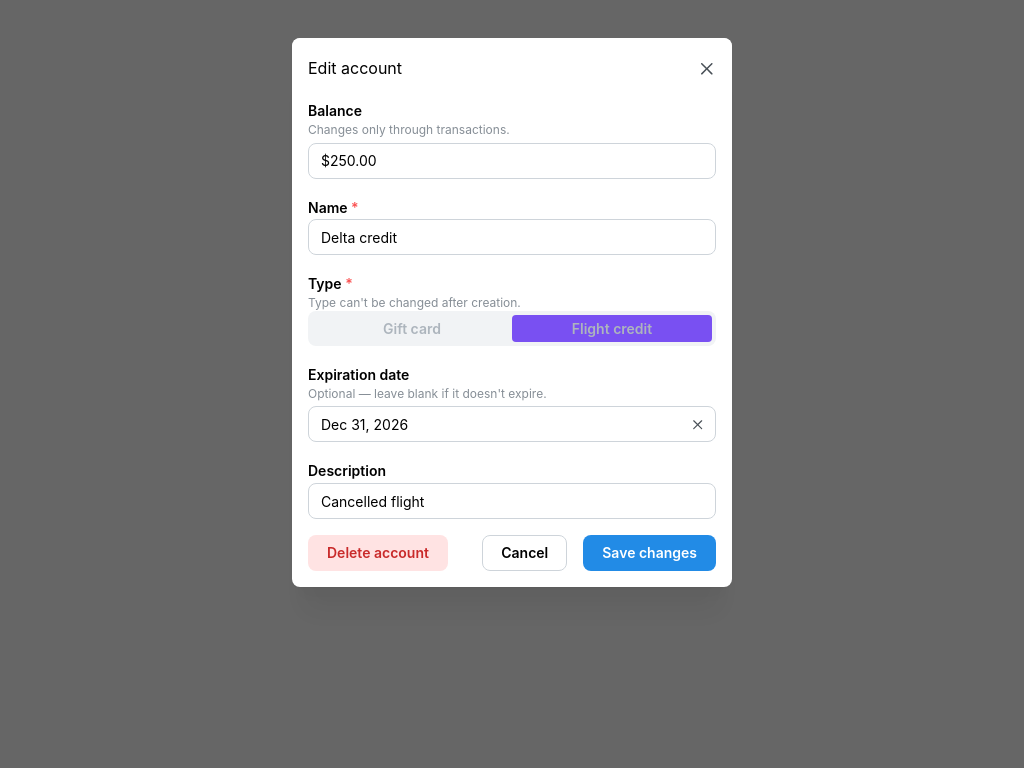
Test case: EditAccountModal › after renaming the account › shows the API's type error under the type field
Replace the text in the field labelled "Name *" with "Delta voucher" at (512, 237), box [308,219,716,255]
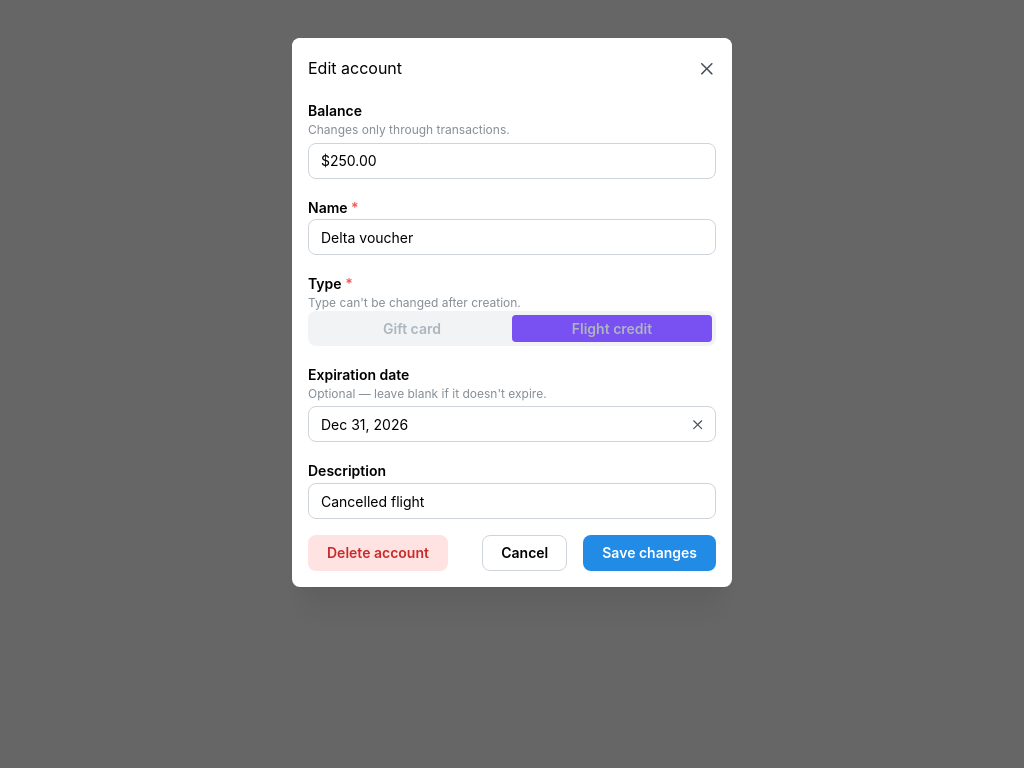
Click the button "Save changes" at (650, 553), box [583,535,716,571]
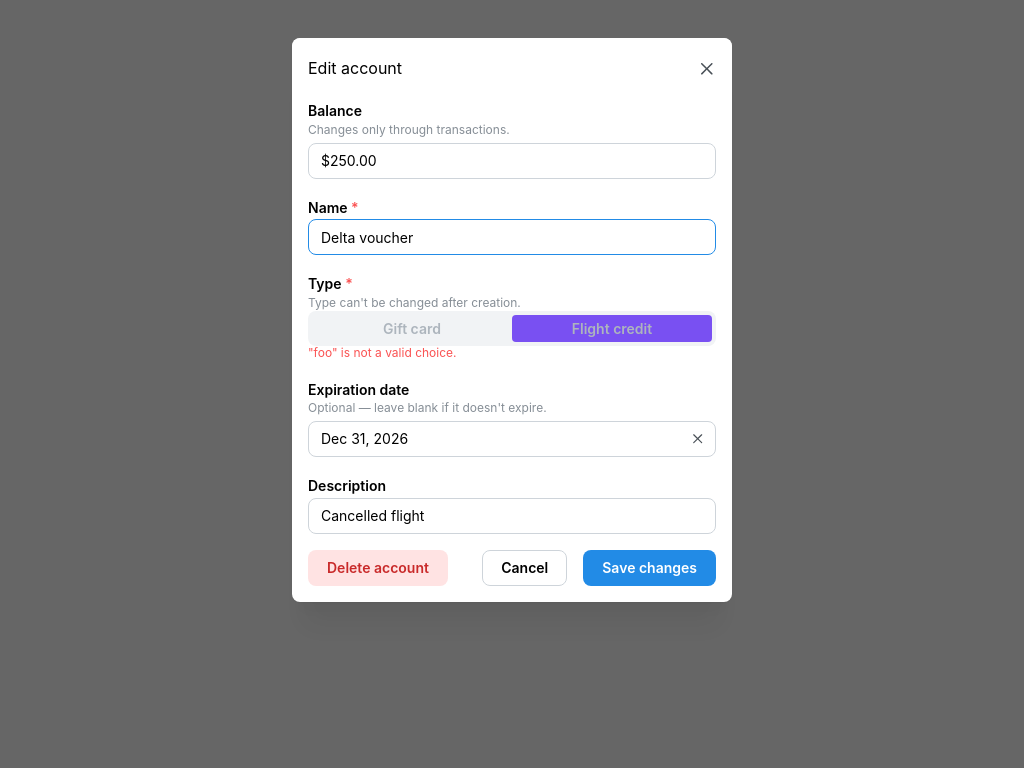
Expected: the text "\"foo\" is not a valid choice." is shown, [308,345,456,360]
